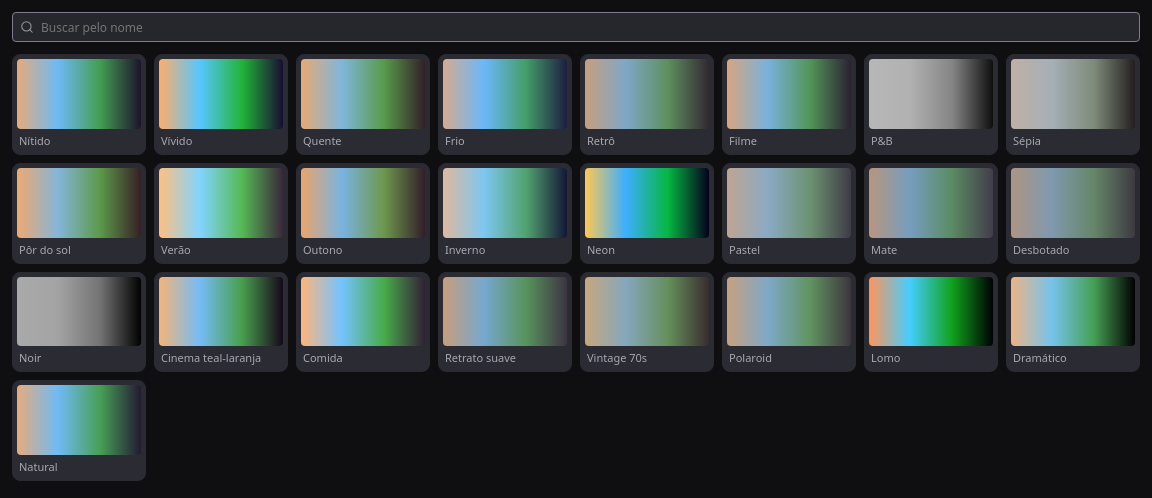
Test: FiltersTab › a busca filtra os filtros pelo nome
In the search field labelled "Buscar pelo nome": (576,27) [12, 12, 1140, 42], type "noi"
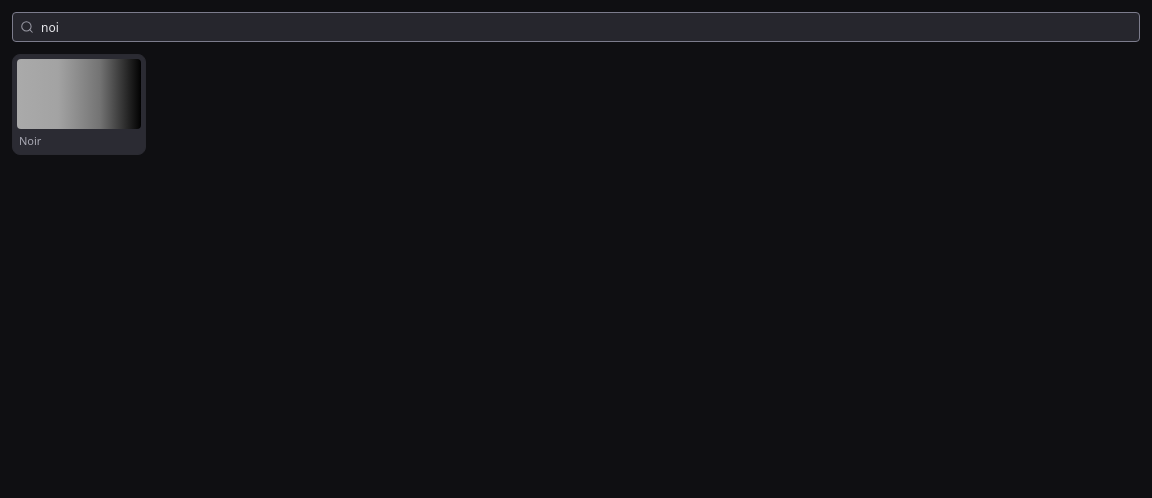
Expected: the button "Noir" is shown, [12, 54, 146, 155]
Expected: the button "Nítido" is gone
